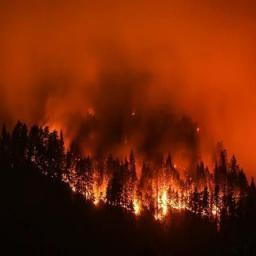Heavy smoke: (28, 53, 217, 168)
Large fire: (33, 111, 256, 224)
